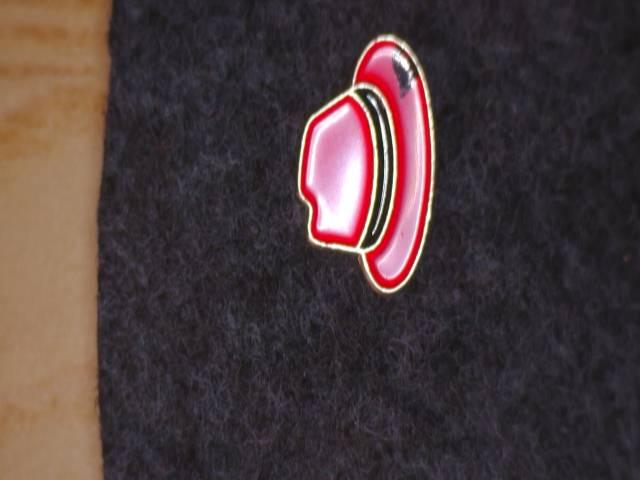Red-Hat: (258, 10, 466, 321)
Scratch: (374, 27, 428, 108)
